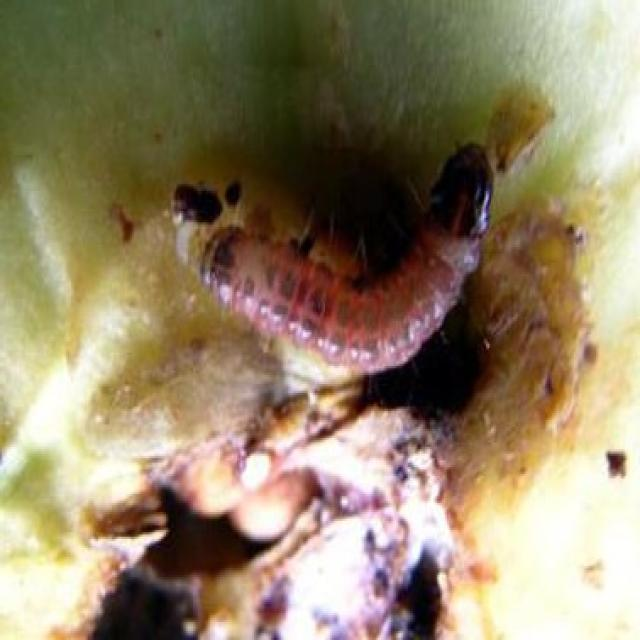peach borer: (166, 137, 500, 386)
